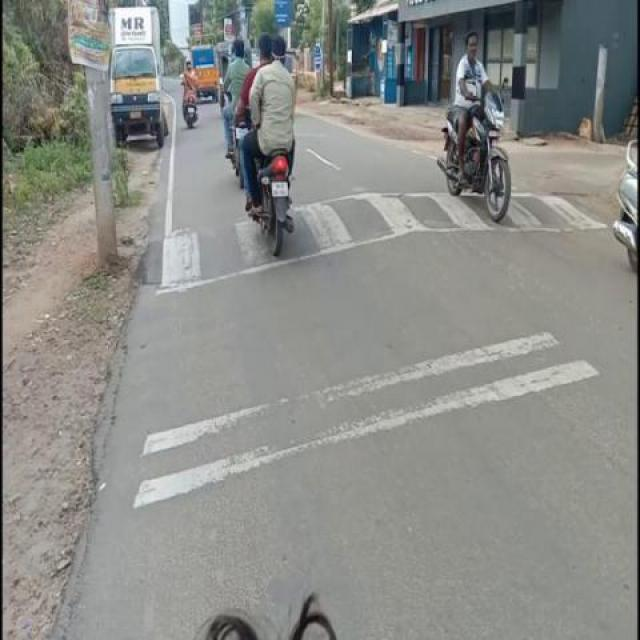Speed Bump: (293, 192, 478, 263), (132, 216, 268, 288), (512, 192, 592, 231)
